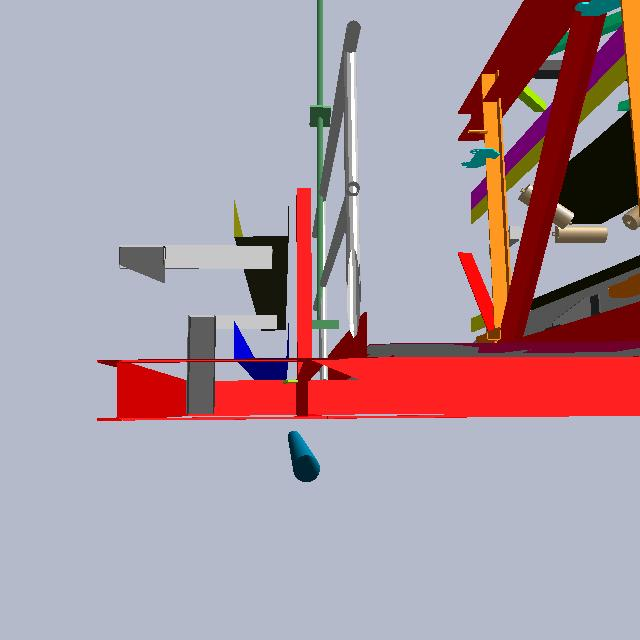Poste: (313, 2, 329, 375)
Soporte: (287, 178, 317, 393)
